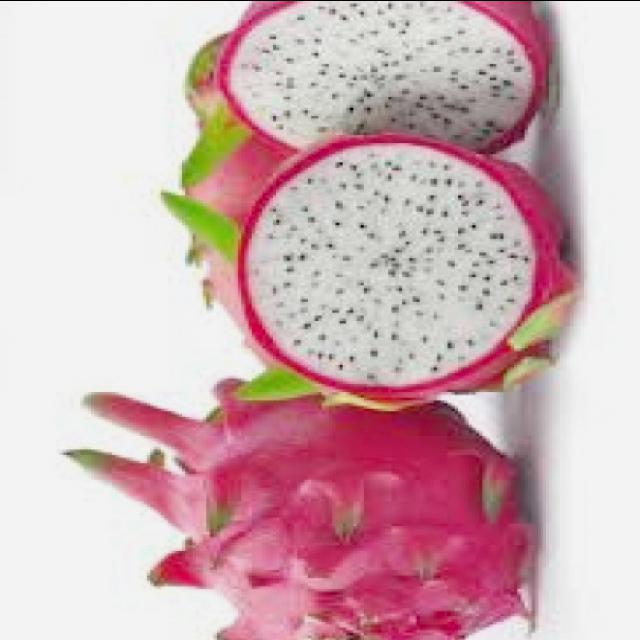trang: (50, 390, 551, 639), (238, 133, 572, 394), (209, 1, 552, 153)
